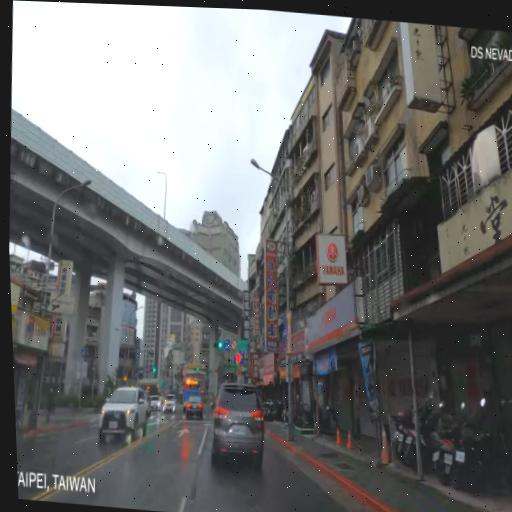Car: (209, 381, 267, 465), (97, 384, 152, 440), (180, 377, 203, 411), (184, 393, 205, 421), (162, 393, 178, 415), (149, 394, 161, 413)
